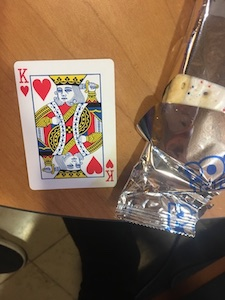KingOfHearts: (9, 58, 120, 192)
